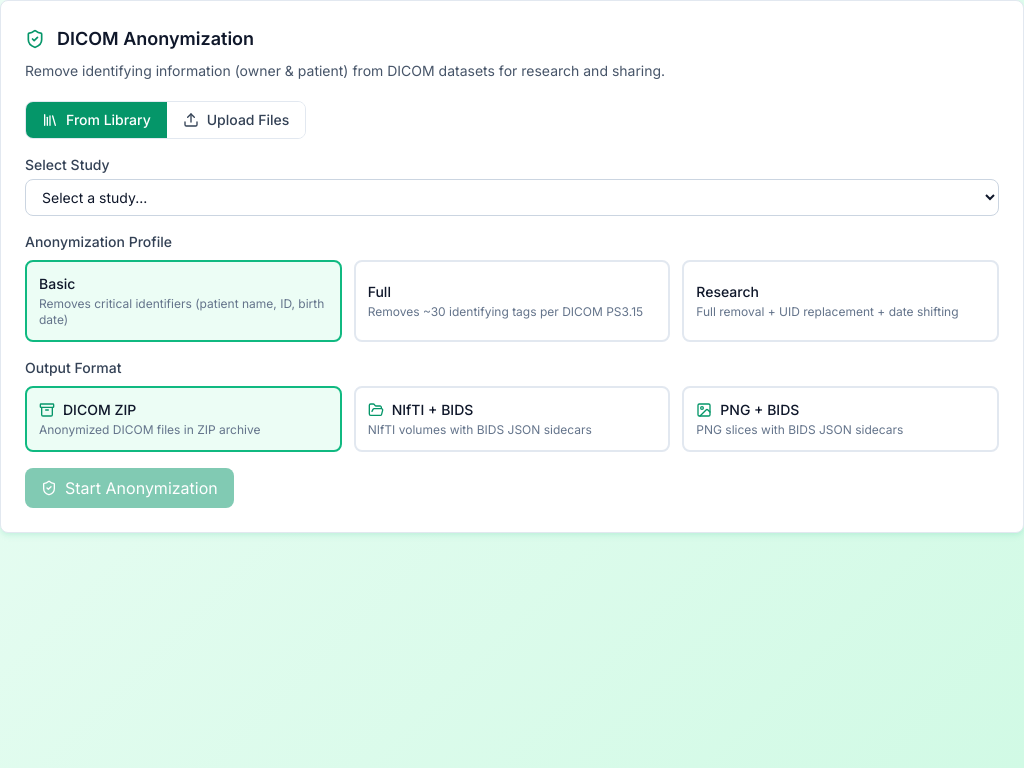
Test: AnonymizationPanel › Start Anonymization button is enabled after selecting a study
Select "PAT001 — Brain MRI" in the dropdown. click: (512, 198)
box: left=25, top=179, right=999, bottom=216
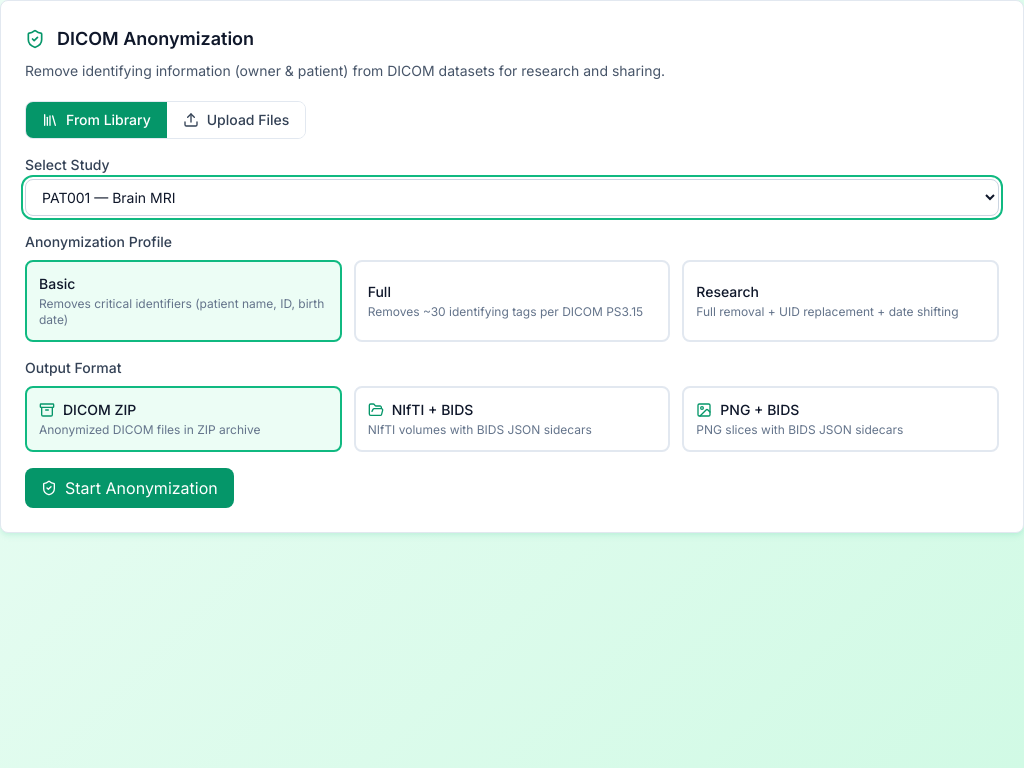
Expected: the button "Start Anonymization" is enabled, left=25, top=468, right=234, bottom=508
